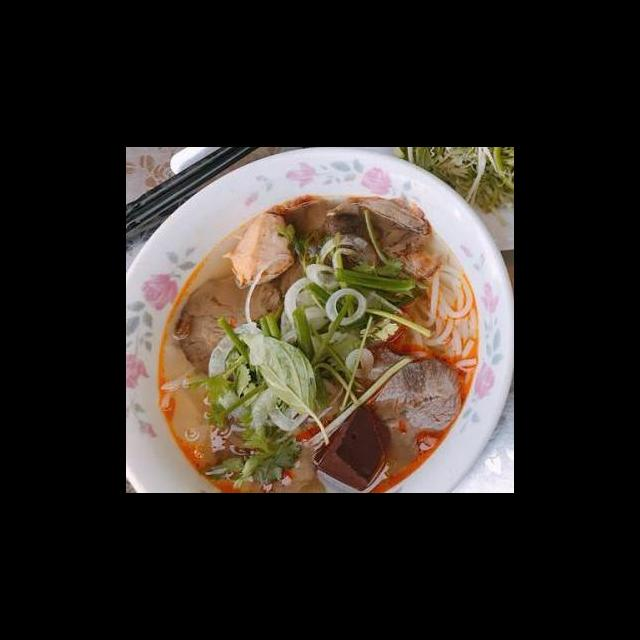bun: (392, 247, 488, 376)
bun bo: (153, 190, 493, 480)
thit bo: (347, 340, 470, 480), (170, 263, 289, 382), (316, 189, 445, 291)
